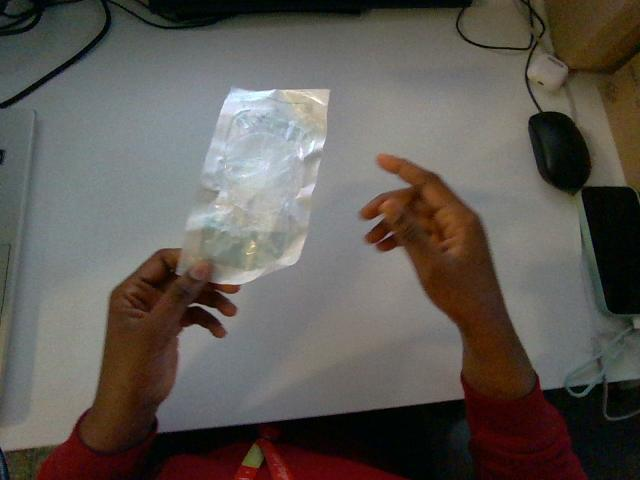gallipot: (178, 89, 328, 283)
